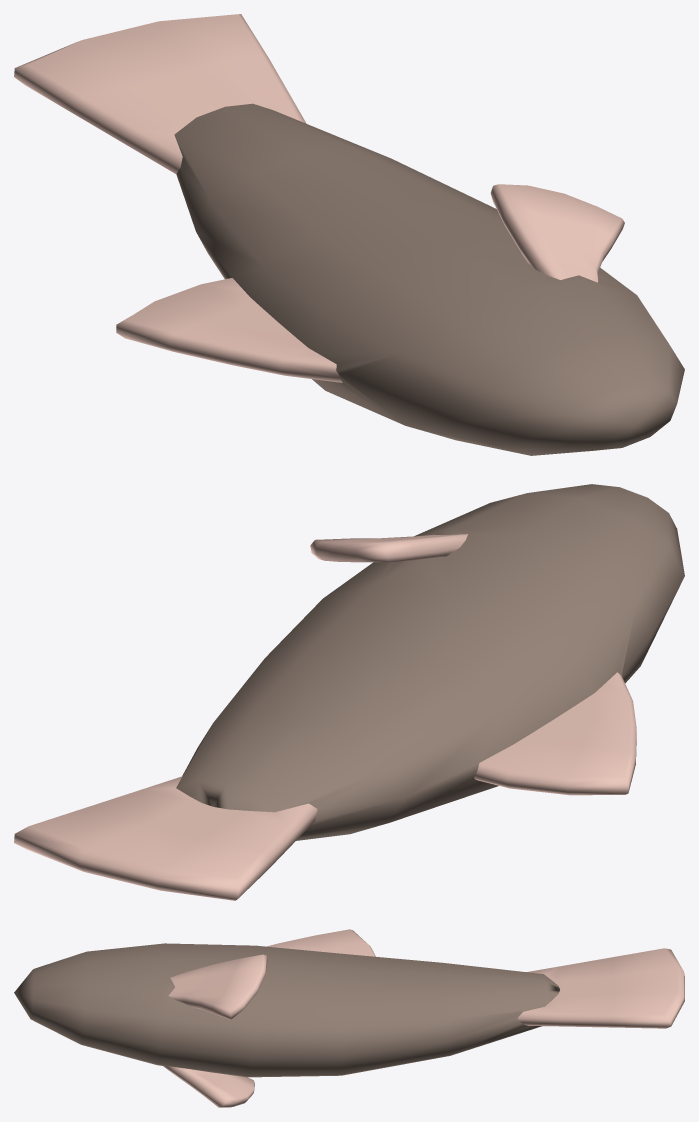
The model's file is fish.fbx.
3 views of the same model, one above another, from view 1: azimuth 30°, elevation 25°; view 2: azimuth 150°, elevation 25°; view 3: azimuth 270°, elevation 25° (orthographic). The views are drawn at different scales.
Visible parts, largest first — view 1: Fish; view 2: Fish; view 3: Fish.
Part boxes in pixels (<box>): Fish: <box>14,14,684,455</box>; Fish: <box>14,484,684,900</box>; Fish: <box>14,929,684,1107</box>.
Bounding box in the file's own units: 19.29 × 9.78 × 41.92.
